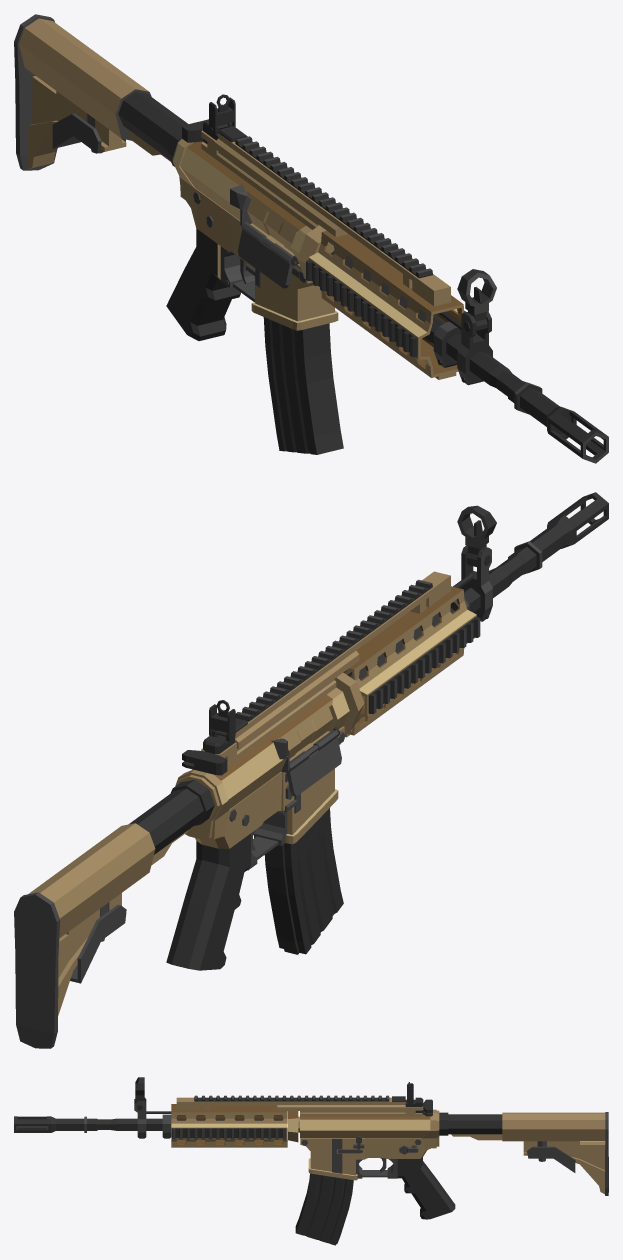
File: Assult.FBX
3 renders of one model, top to bottom at view 1: azimuth 30°, elevation 25°; view 2: azimuth 150°, elevation 25°; view 3: azimuth 270°, elevation 25°, orthographic. The views are drawn at different scales.
Parts seen in each view (by area): view 1: Assult; view 2: Assult; view 3: Assult.
Boxes of the visible parts, left/top/right/bottom form: Assult: left=14, top=14, right=608, bottom=463; Assult: left=14, top=492, right=608, bottom=1048; Assult: left=14, top=1077, right=608, bottom=1245.
Bounding box in the file's own units: 0.0668 × 0.2909 × 0.9499.
Materials: 2 (2 with a texture image).
